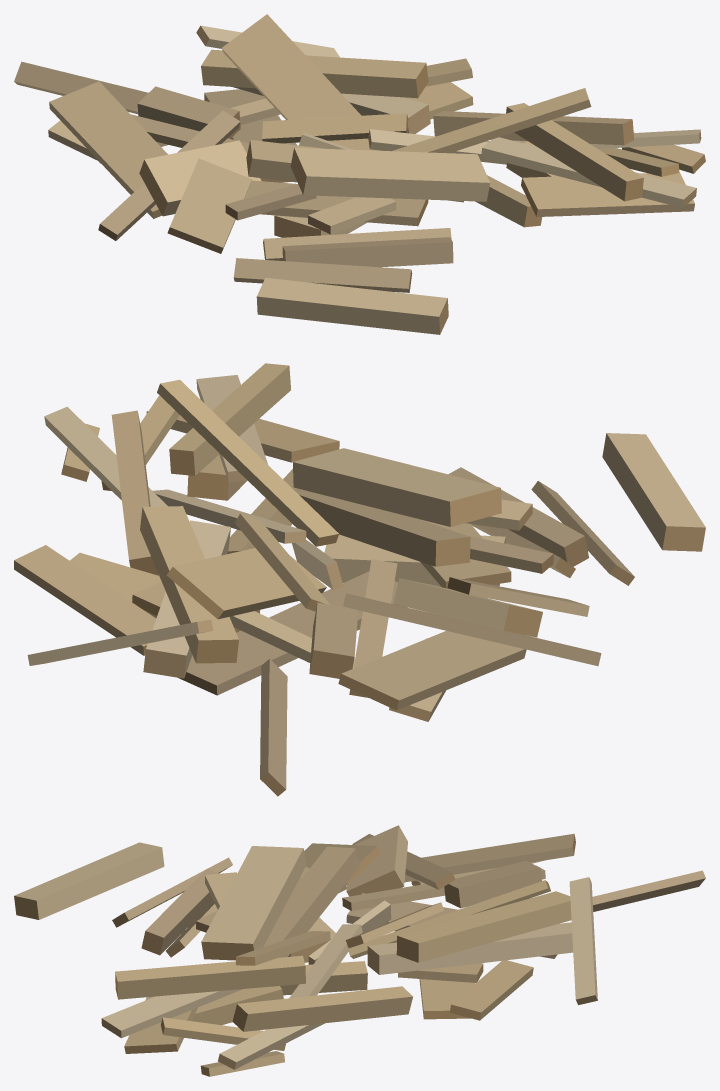
The model's file is offcut-pile.glb.
The picture shows the model from 3 angles, top to bottom: view 1: azimuth 30°, elevation 25°; view 2: azimuth 150°, elevation 25°; view 3: azimuth 270°, elevation 25°; orthographic projection. The views are drawn at different scales.
Parts seen in each view (by area): view 1: OffcutPile_LumberFace, OffcutPile_LumberEnd; view 2: OffcutPile_LumberFace, OffcutPile_LumberEnd; view 3: OffcutPile_LumberFace, OffcutPile_LumberEnd.
Boxes of the visible parts, x1=… form: OffcutPile_LumberFace: x1=14, y1=14, x2=704, y2=334; OffcutPile_LumberEnd: x1=98, y1=26, x2=705, y2=334; OffcutPile_LumberFace: x1=14, y1=363, x2=705, y2=789; OffcutPile_LumberEnd: x1=61, y1=441, x2=705, y2=796; OffcutPile_LumberFace: x1=14, y1=825, x2=705, y2=1076; OffcutPile_LumberEnd: x1=14, y1=834, x2=597, y2=1076.
Size of the model in its own units: 2.5 by 0.4217 by 2.99.
